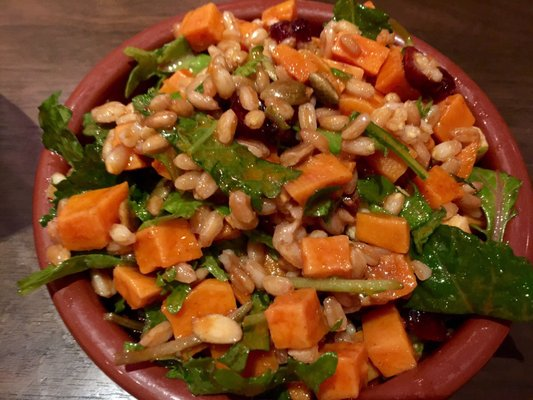sushi: (10, 4, 530, 400)
